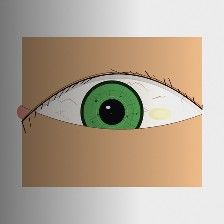pinguecula_lesion: (137, 95, 183, 133)
